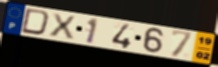1: (86, 18, 100, 46)
4: (111, 22, 133, 50)
6: (142, 27, 167, 55)
7: (170, 28, 195, 59)
D: (19, 7, 52, 37)
X: (48, 12, 77, 41)
